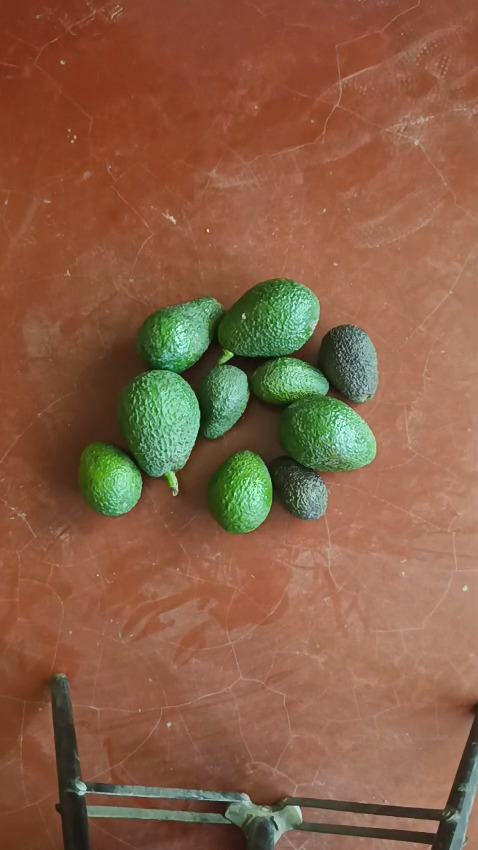Primera: (117, 369, 201, 483), (216, 277, 320, 358)
Segunda: (279, 397, 375, 472), (135, 297, 223, 373)
Tercera: (207, 449, 273, 532), (317, 325, 379, 403), (78, 442, 143, 516), (198, 362, 251, 439), (249, 357, 329, 405), (269, 456, 327, 519)
